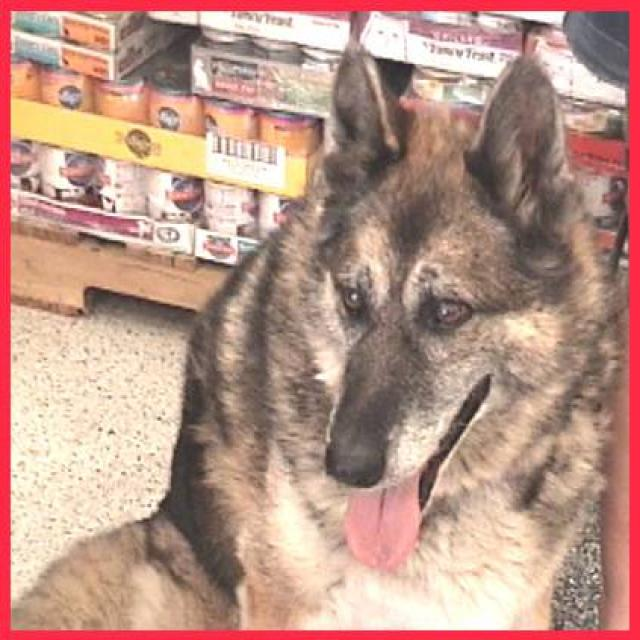dog: (11, 32, 620, 630)
